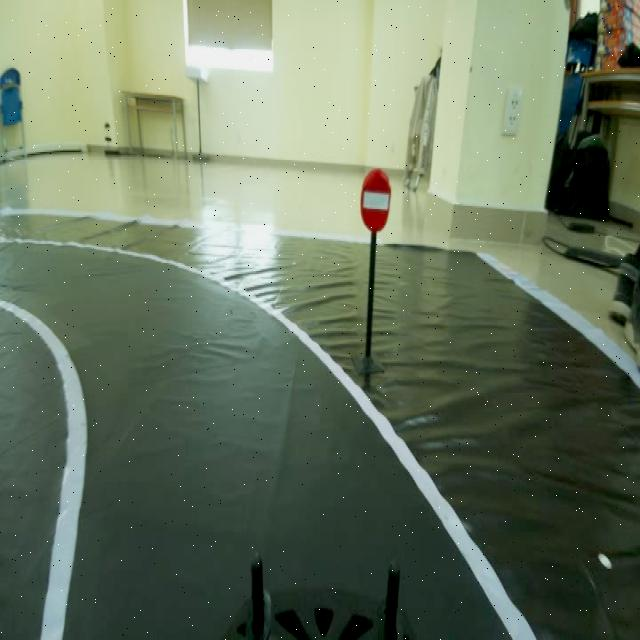no_entry: (360, 160, 396, 233)
